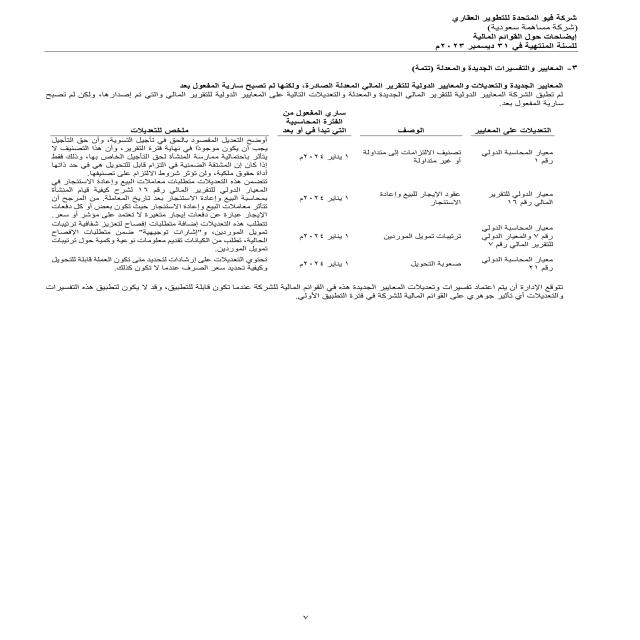notes: (459, 32, 585, 42)
table: (34, 110, 565, 285)
